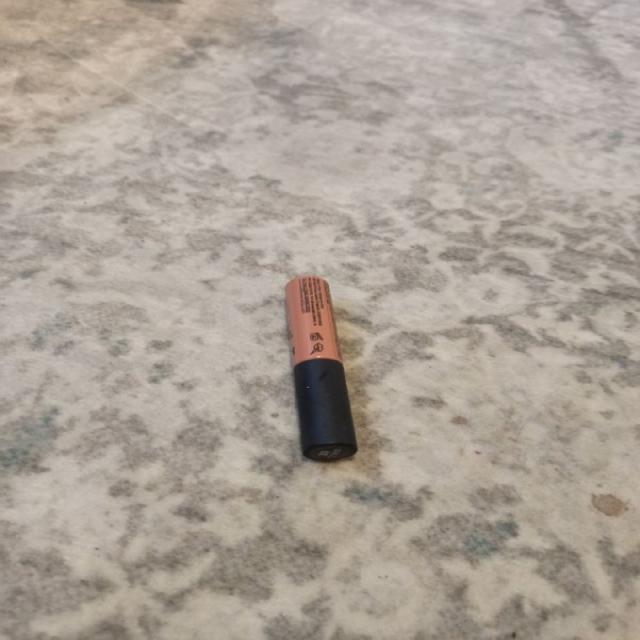lipstick: (283, 274, 358, 462)
